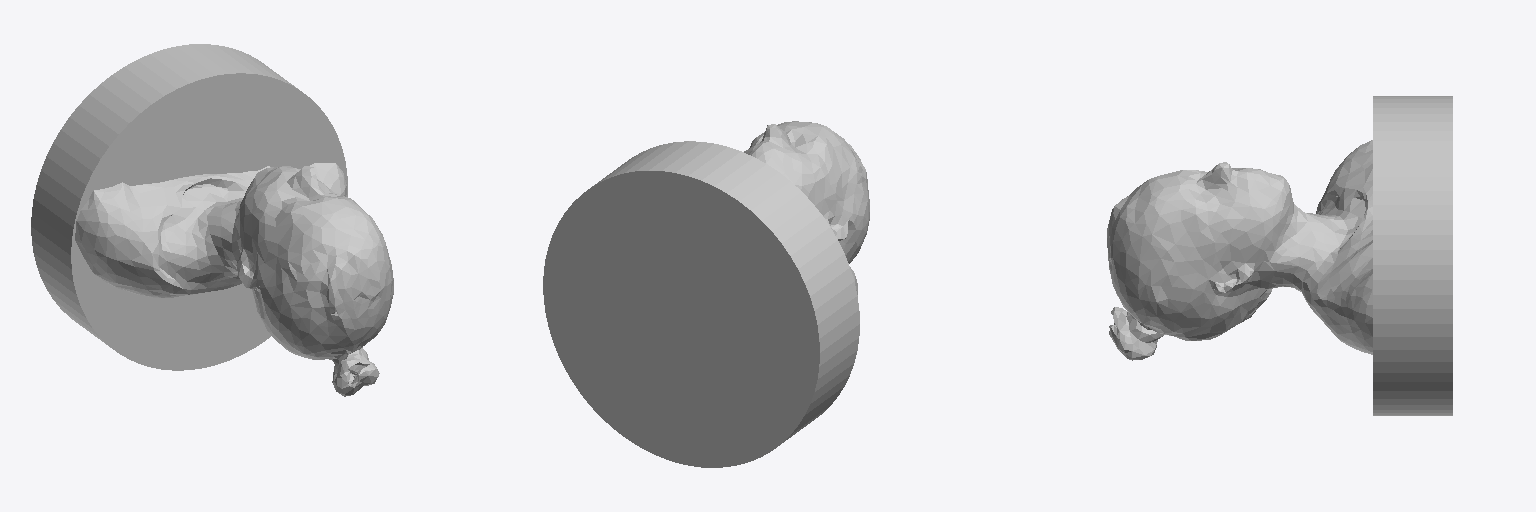
File: chrisi.obj
3 views of the same model, side by side, from view 1: azimuth 30°, elevation 25°; view 2: azimuth 150°, elevation 25°; view 3: azimuth 270°, elevation 25° (orthographic).
Visible parts, largest first — view 1: <STL_BINARY>; view 2: <STL_BINARY>; view 3: <STL_BINARY>.
Part boxes in pixels (x1,y1,x2,y2): <STL_BINARY>: (31, 44, 393, 396); <STL_BINARY>: (543, 121, 869, 467); <STL_BINARY>: (1107, 96, 1452, 415).
Bounding box in the file's own units: 0.3992 × 0.3988 × 0.4318.